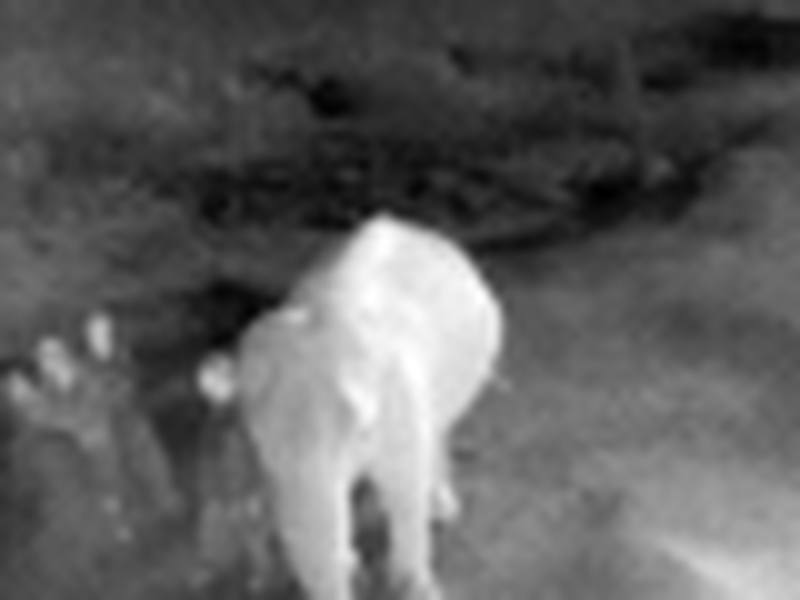elephant: (215, 221, 540, 600)
